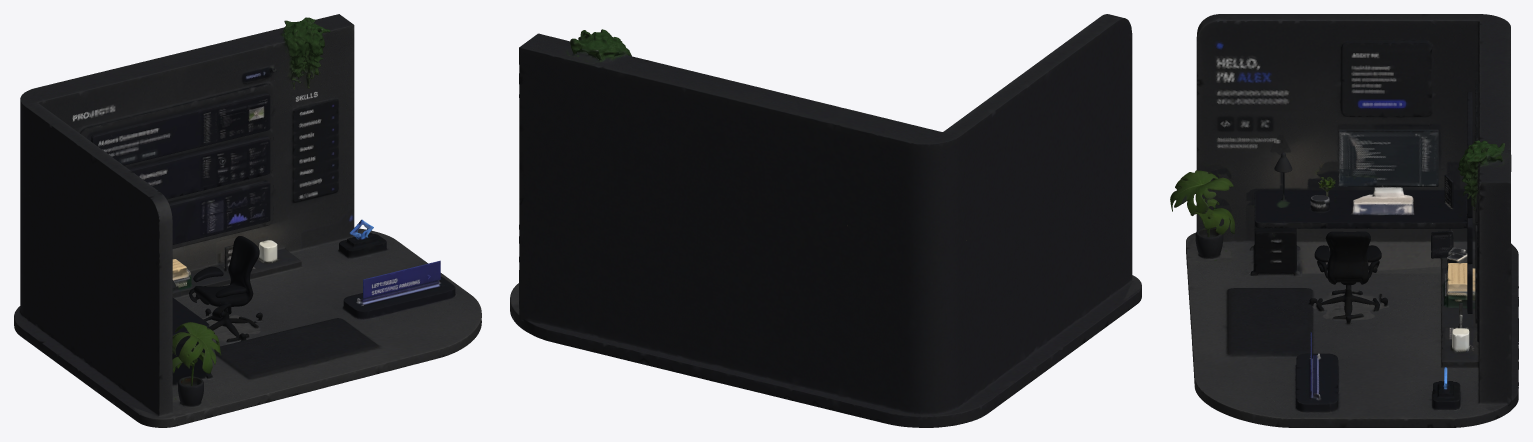
File: Meshy_AI_Alex_s_AI_Workspace_0903102937_texture.fbx
3 views of the same model, side by side, from view 1: azimuth 30°, elevation 25°; view 2: azimuth 150°, elevation 25°; view 3: azimuth 270°, elevation 25° (orthographic). The views are drawn at different scales.
Parts seen in each view (by area): view 1: mesh_node; view 2: mesh_node; view 3: mesh_node.
Part boxes in pixels (bbox=[...]): mesh_node: bbox=[14, 14, 481, 427]; mesh_node: bbox=[510, 14, 1141, 427]; mesh_node: bbox=[1170, 14, 1518, 427].
Size of the model in its own units: 190 by 115 by 148.
Materials: 1 (1 with a texture image).
